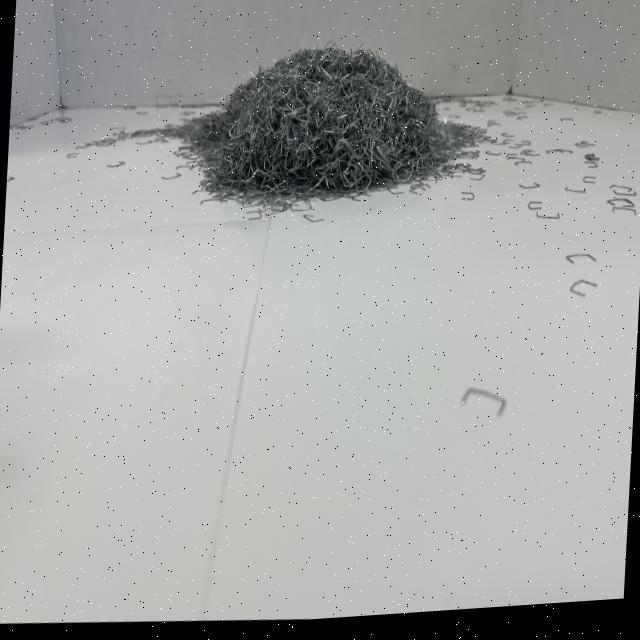staples: (180, 23, 478, 219)
